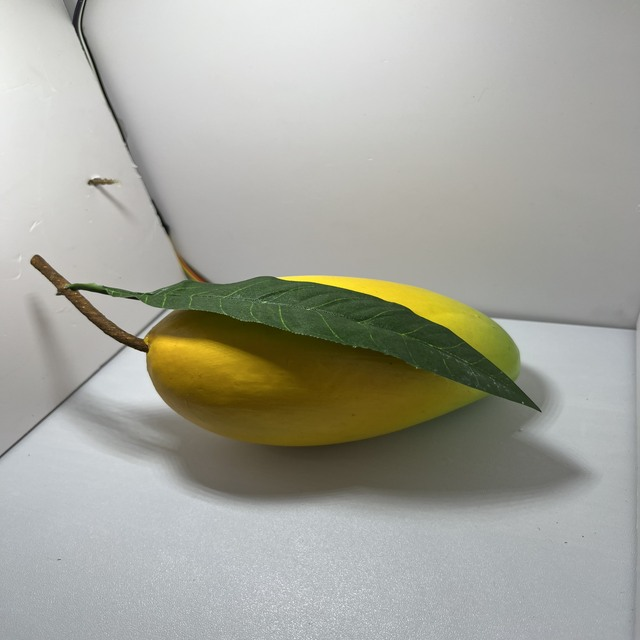Xoai: (128, 268, 528, 452)
